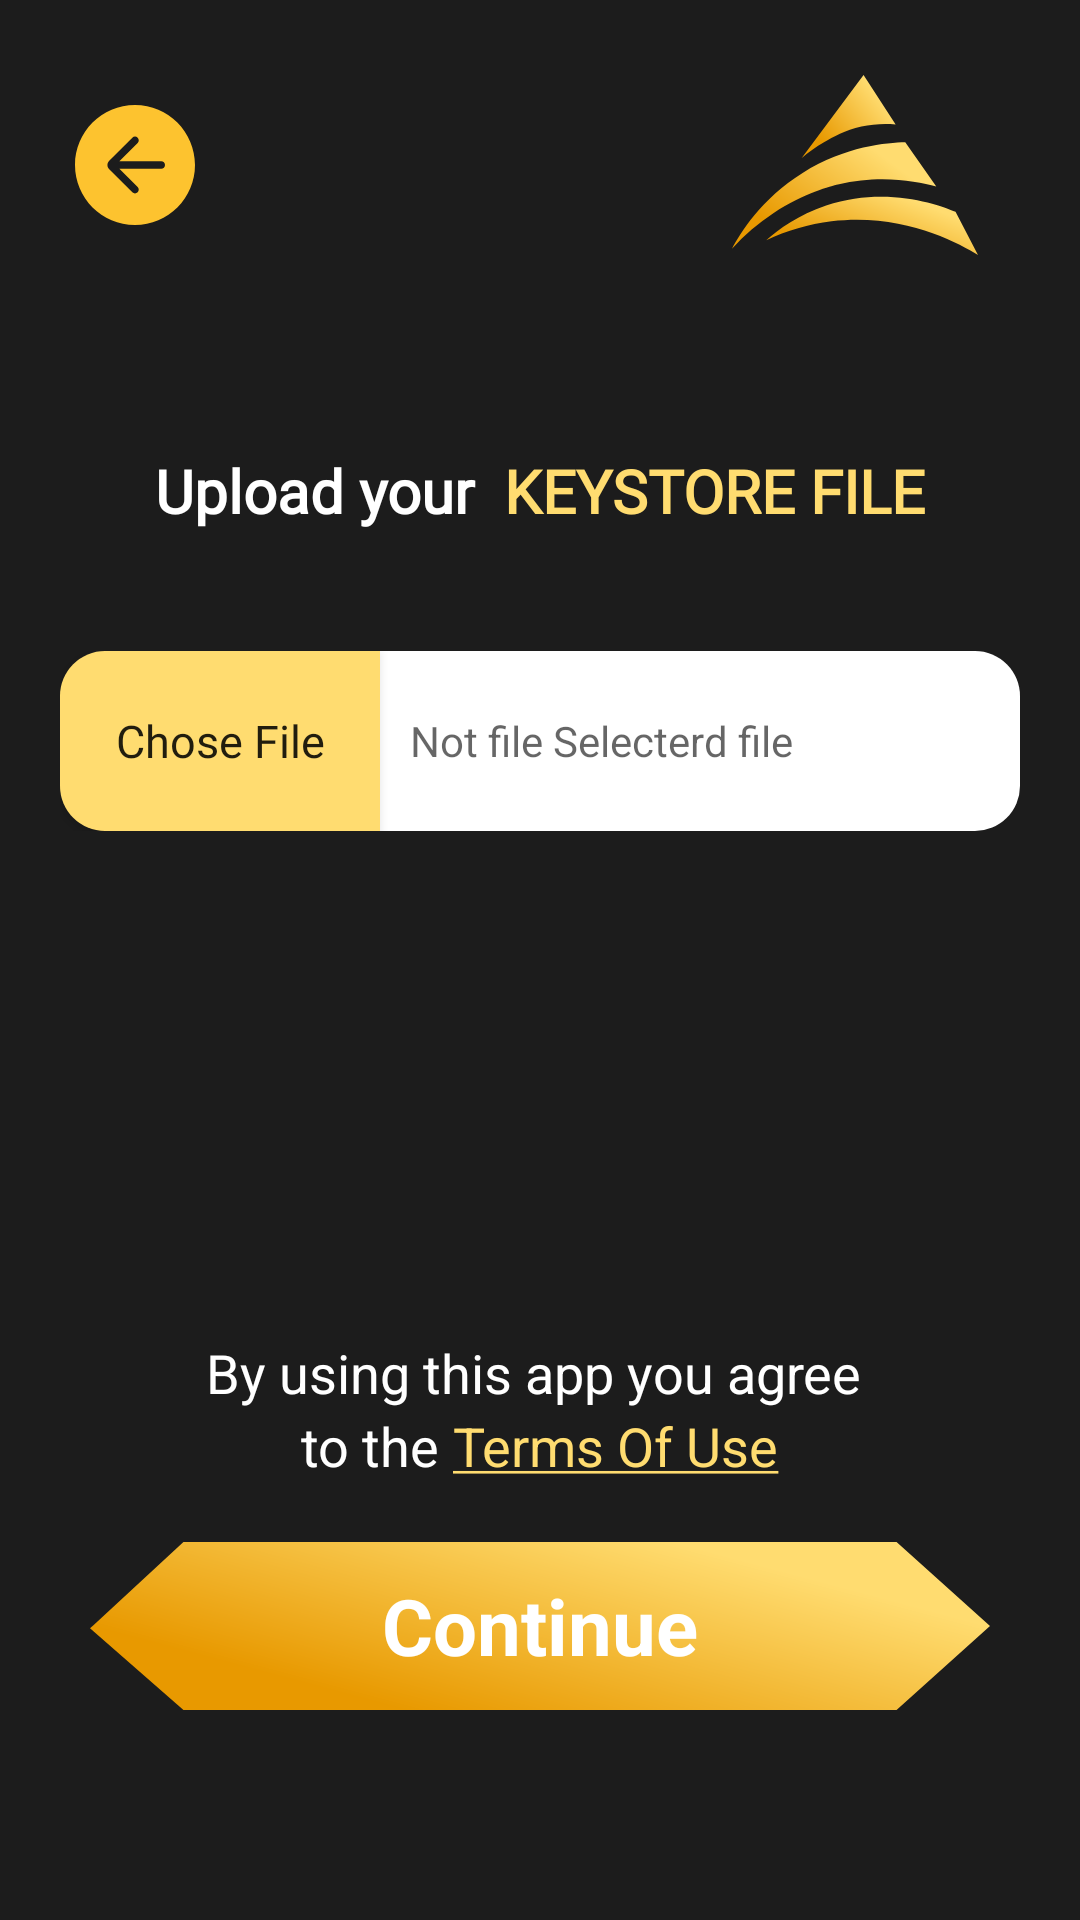

Named icons in this screenshot (1080 x 1920) and their centers, (x=x, y=y):
back: (x=135, y=165)
